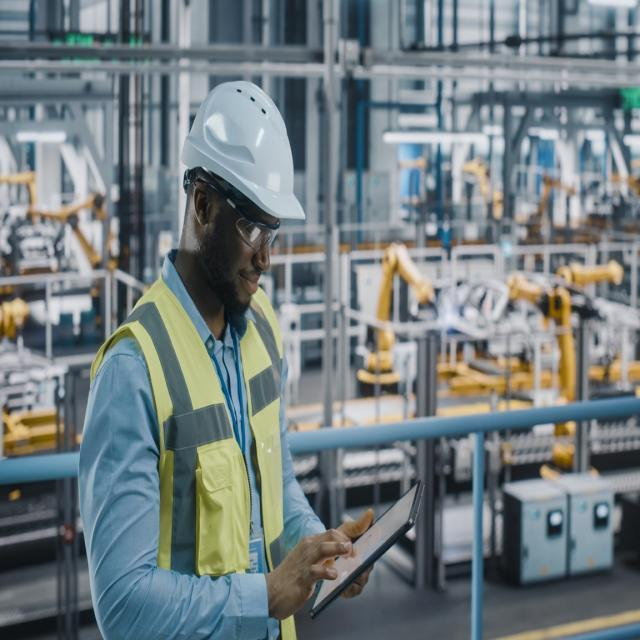reflective_jacket: (94, 278, 299, 639)
safety_helmet: (177, 74, 306, 220)
